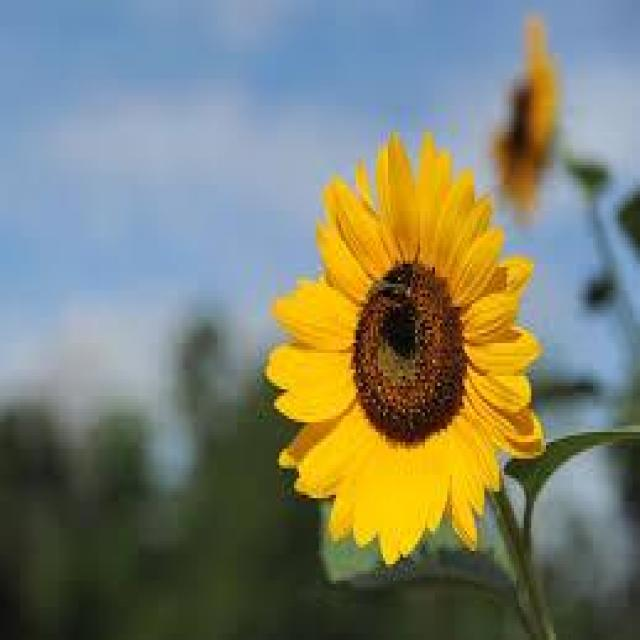organic waste: (255, 137, 551, 546)
